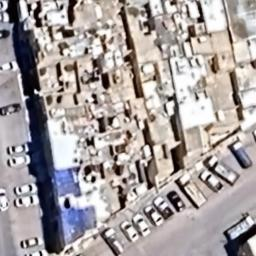pickup: (153, 195, 175, 219)
sedan: (196, 168, 224, 193), (165, 188, 189, 212), (131, 210, 152, 237), (119, 217, 140, 241), (143, 204, 165, 226), (17, 234, 45, 250), (6, 154, 34, 170), (12, 195, 42, 209), (5, 142, 37, 155), (14, 182, 38, 196), (0, 102, 23, 116), (0, 188, 11, 213), (1, 60, 22, 73)
truck: (175, 170, 208, 210), (202, 154, 240, 186), (99, 225, 127, 256), (228, 139, 254, 170)
unknown: (221, 212, 256, 244)
